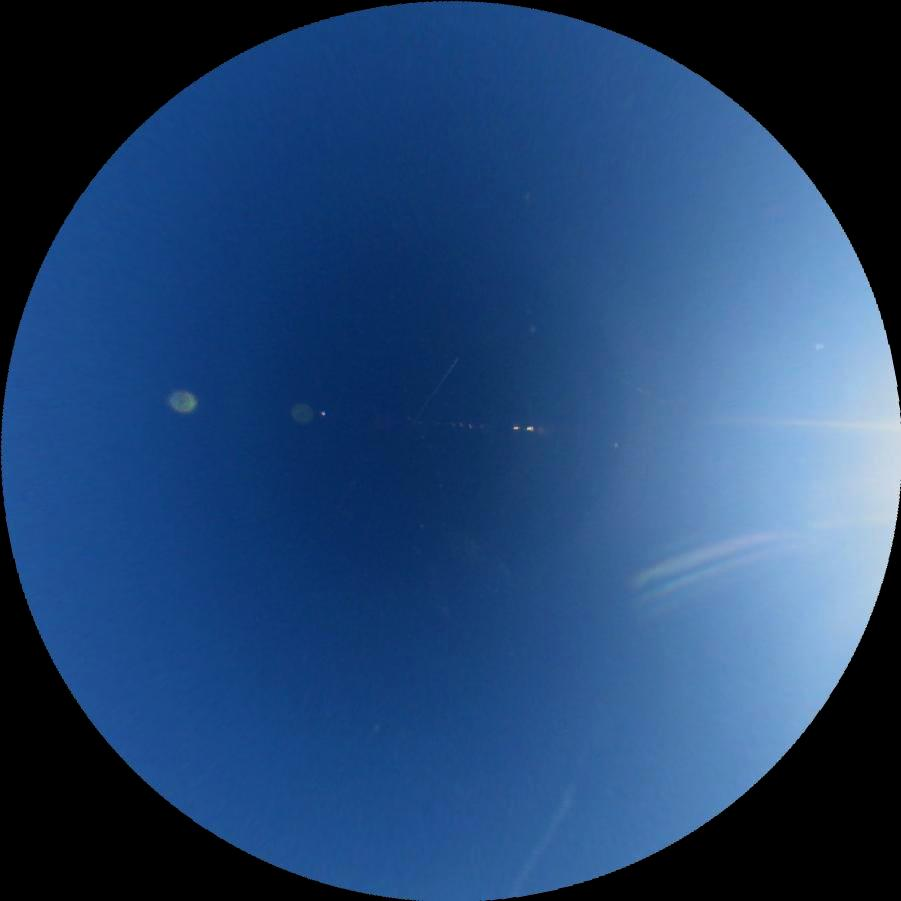contrail veryold: (507, 775, 583, 896)
contrail young: (414, 356, 459, 417), (610, 371, 647, 397)
parasite: (628, 513, 811, 589), (699, 416, 888, 427)
